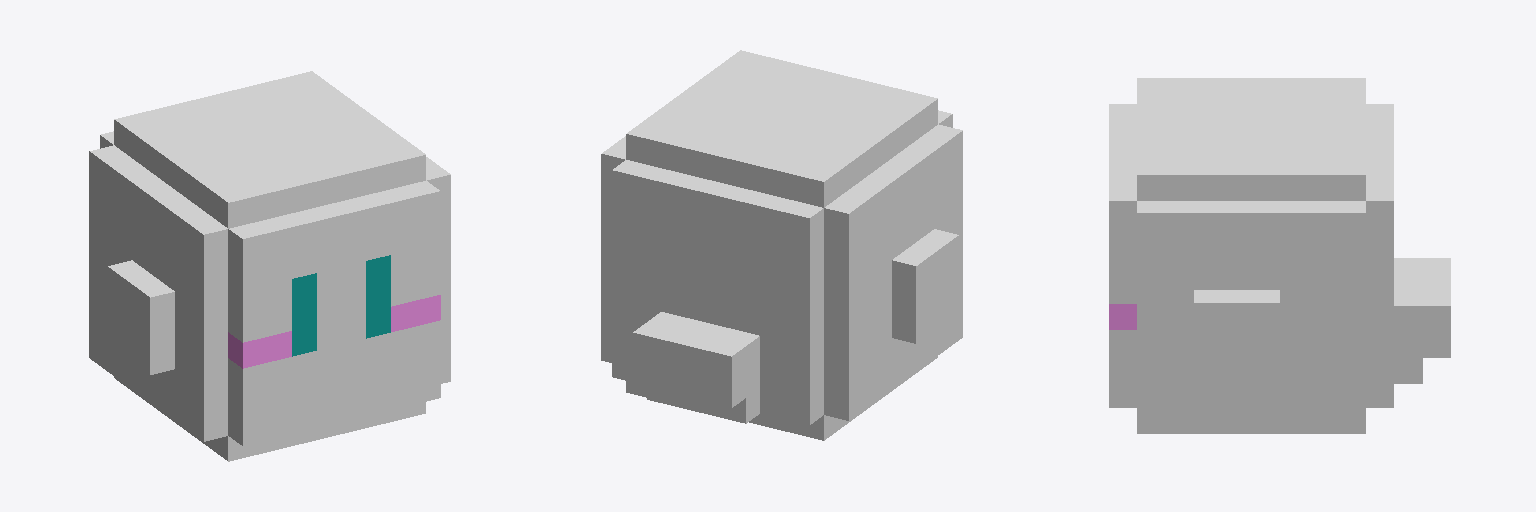
3 views of the same model, side by side, from view 1: azimuth 30°, elevation 25°; view 2: azimuth 150°, elevation 25°; view 3: azimuth 270°, elevation 25° (orthographic).
Parts seen in each view (by area): view 1: object 1; view 2: object 1; view 3: object 1.
Part boxes in pixels (bbox=[...]): object 1: bbox=[89, 71, 450, 461]; object 1: bbox=[601, 50, 962, 440]; object 1: bbox=[1109, 78, 1450, 433].
Size of the model in its own units: 1.2 by 1 by 1.2.
1 materials, 1 textured.